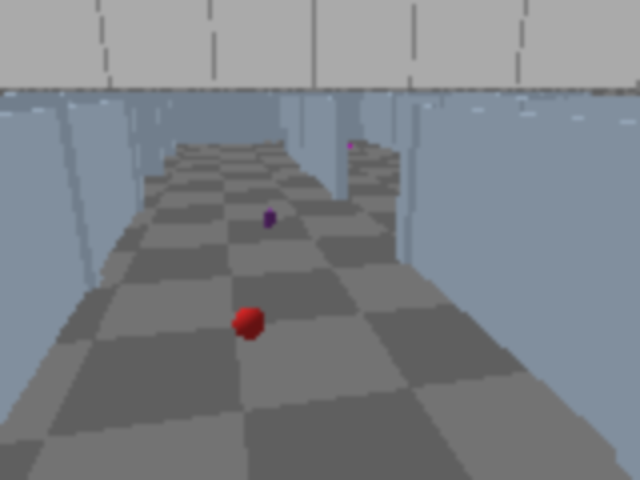puck: (228, 300, 271, 349)
